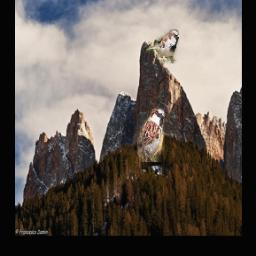Sparrow: (138, 107, 166, 163), (147, 30, 180, 64)
